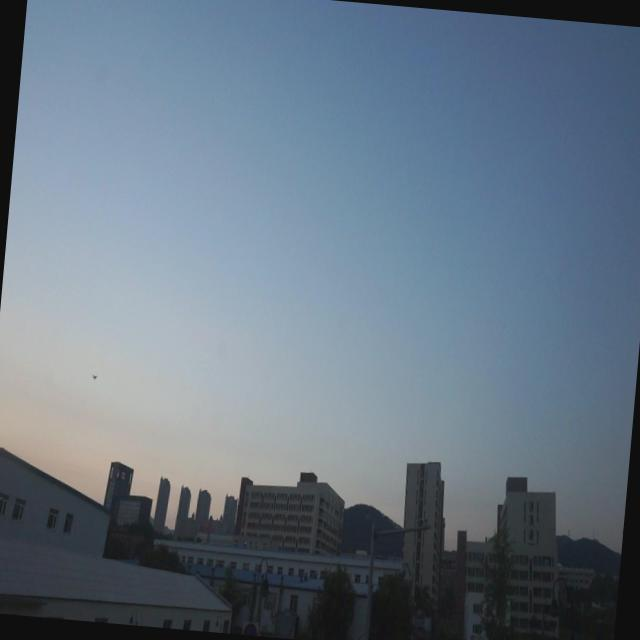drone: (89, 367, 100, 385)
